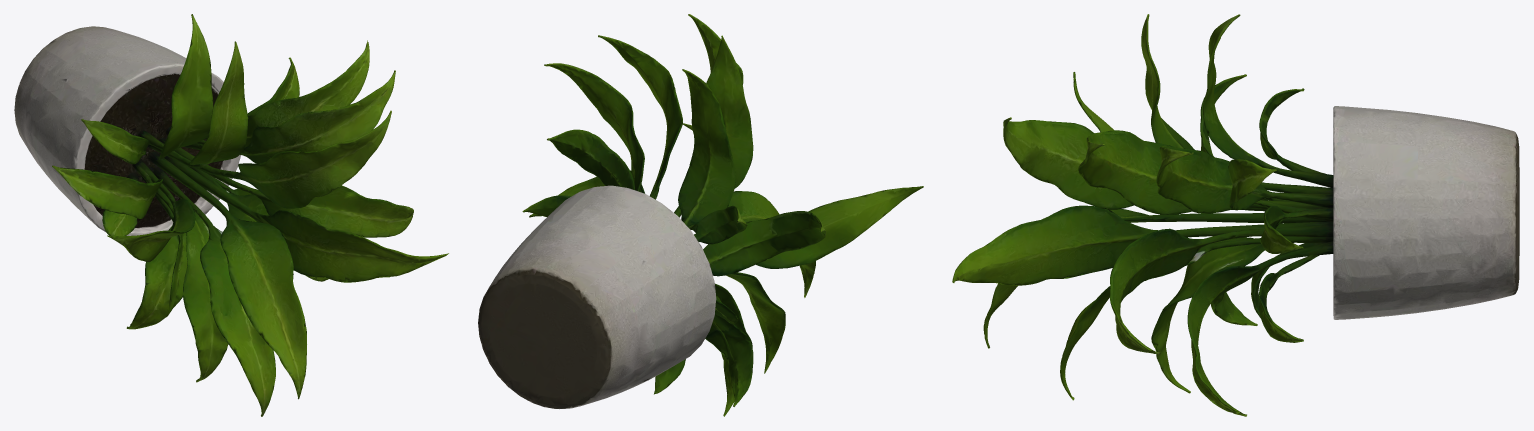
Rendered from potted_plant.otimizado.glb.
The picture shows the model from 3 angles, left to right: view 1: azimuth 30°, elevation 25°; view 2: azimuth 150°, elevation 25°; view 3: azimuth 270°, elevation 25°; orthographic projection. The views are drawn at different scales.
Parts seen in each view (by area): view 1: Object_2; view 2: Object_2; view 3: Object_2.
Part boxes in pixels (left/top/right/bottom): Object_2: left=14, top=14, right=448, bottom=416; Object_2: left=478, top=14, right=923, bottom=416; Object_2: left=952, top=14, right=1519, bottom=416.
Bounding box in the file's own units: 0.7668 × 0.7455 × 0.9812.
1 material, 1 textured.
